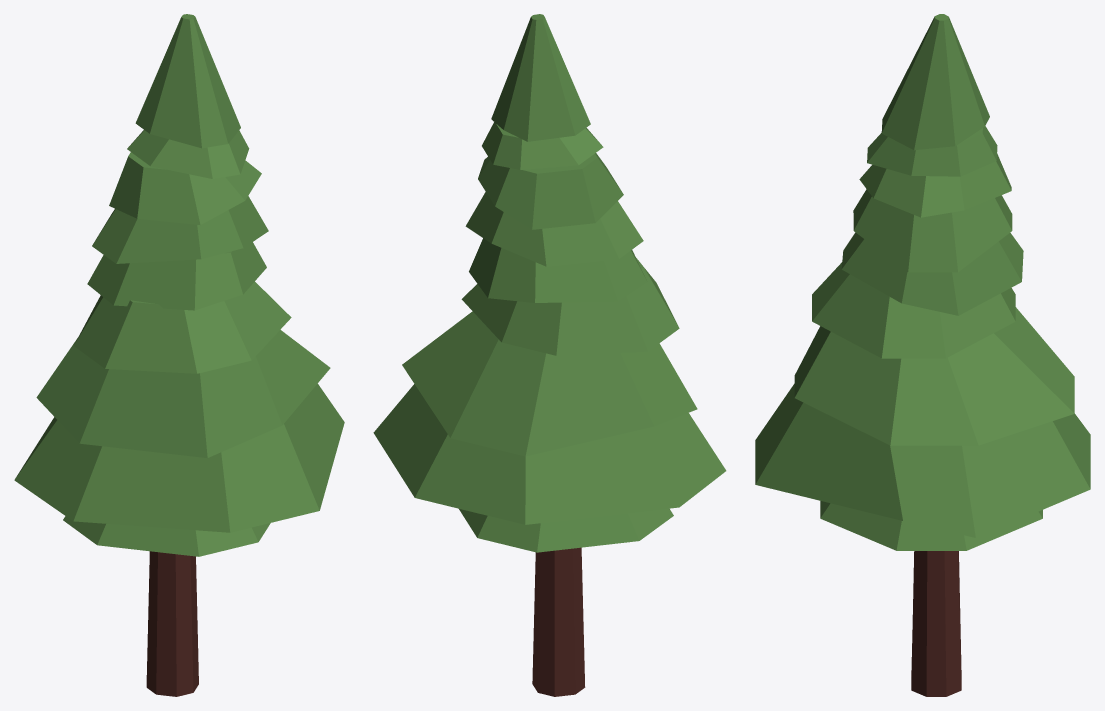
The model's file is PineTree.fbx.
3 views of the same model, side by side, from view 1: azimuth 30°, elevation 25°; view 2: azimuth 150°, elevation 25°; view 3: azimuth 270°, elevation 25° (orthographic). The views are drawn at different scales.
Visible parts, largest first — view 1: Cube; view 2: Cube; view 3: Cube.
Part boxes in pixels (bbox=[...]): Cube: bbox=[14, 14, 344, 696]; Cube: bbox=[373, 14, 726, 696]; Cube: bbox=[755, 14, 1090, 696].
Size of the model in its own units: 323 by 672 by 301.
